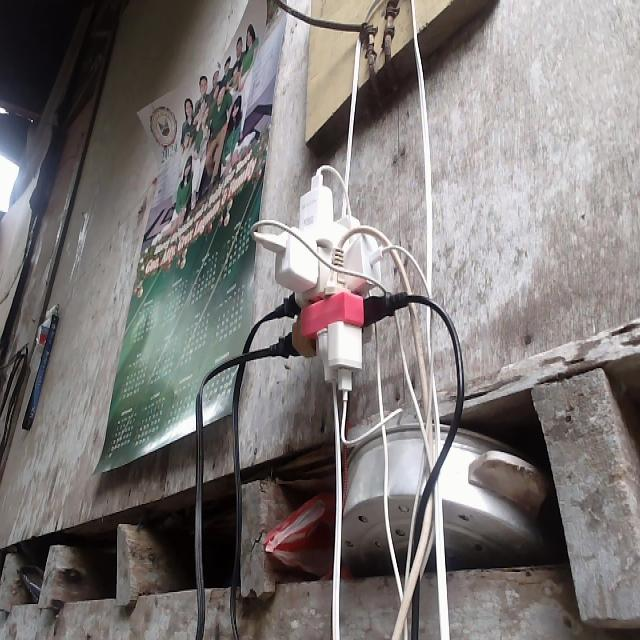-: (244, 162, 412, 398)
